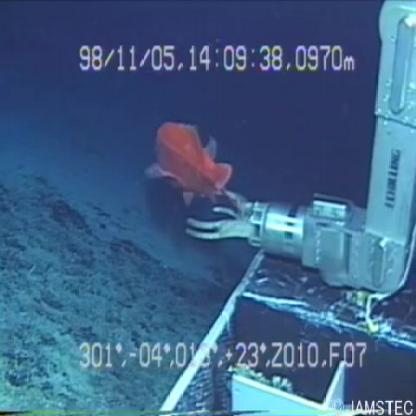Bio: (138, 113, 238, 214)
Rov: (184, 1, 415, 413)
